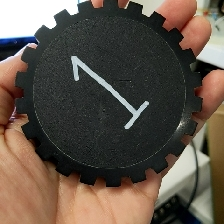gear: (13, 1, 205, 189)
